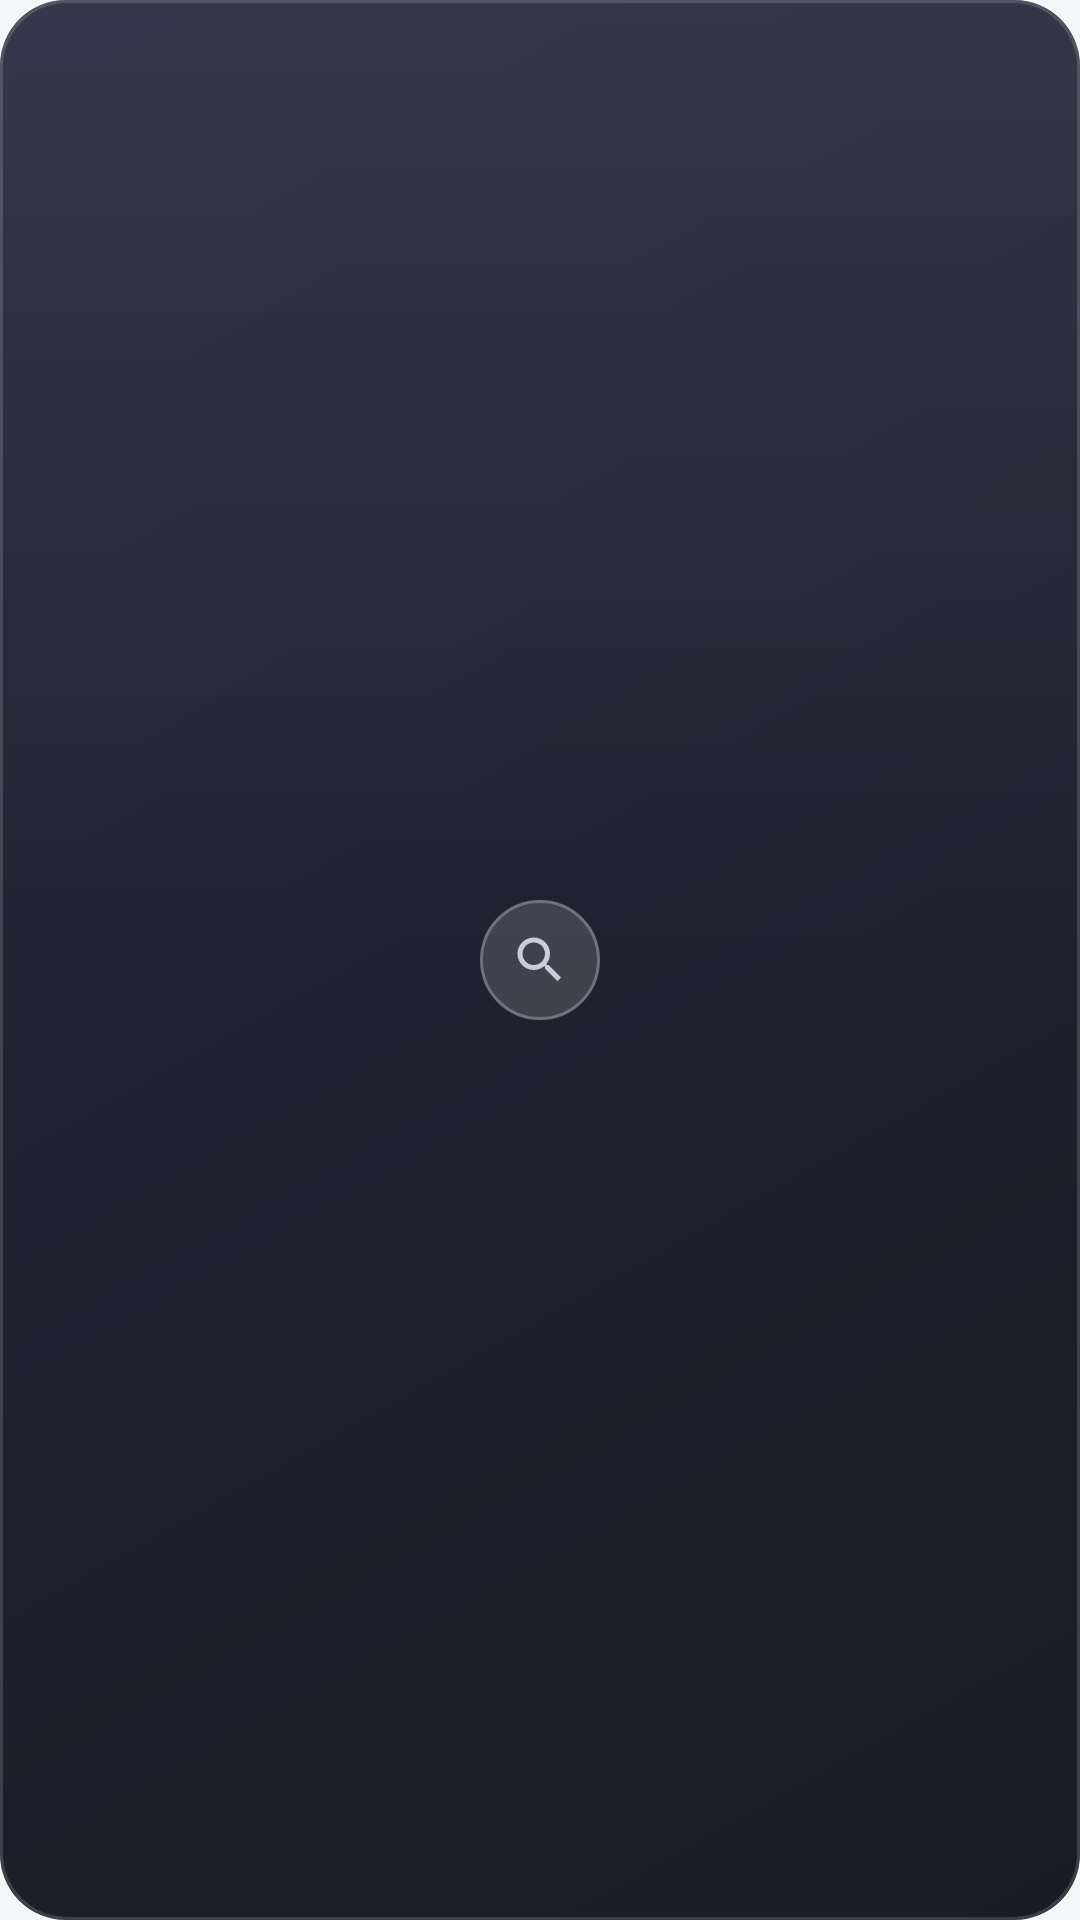

Icon click points for this 1080 x 1920 phone screenshot, format (x,y):
Search music: (540,960)
